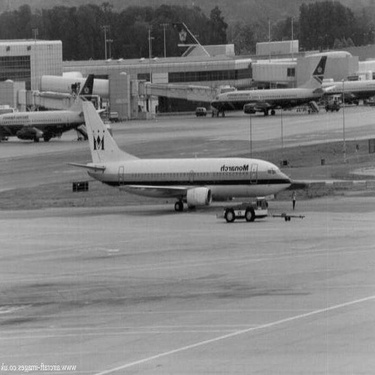airplane: (52, 96, 323, 223), (196, 50, 336, 115), (5, 73, 99, 144)
